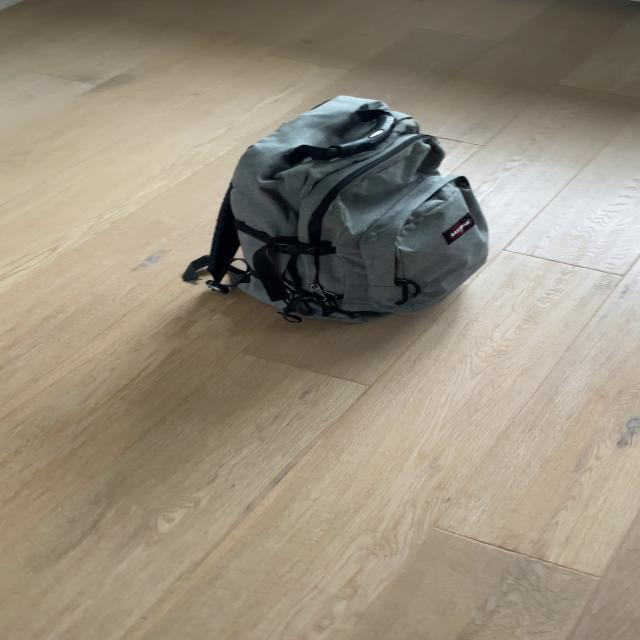backpack: (199, 88, 502, 330)
